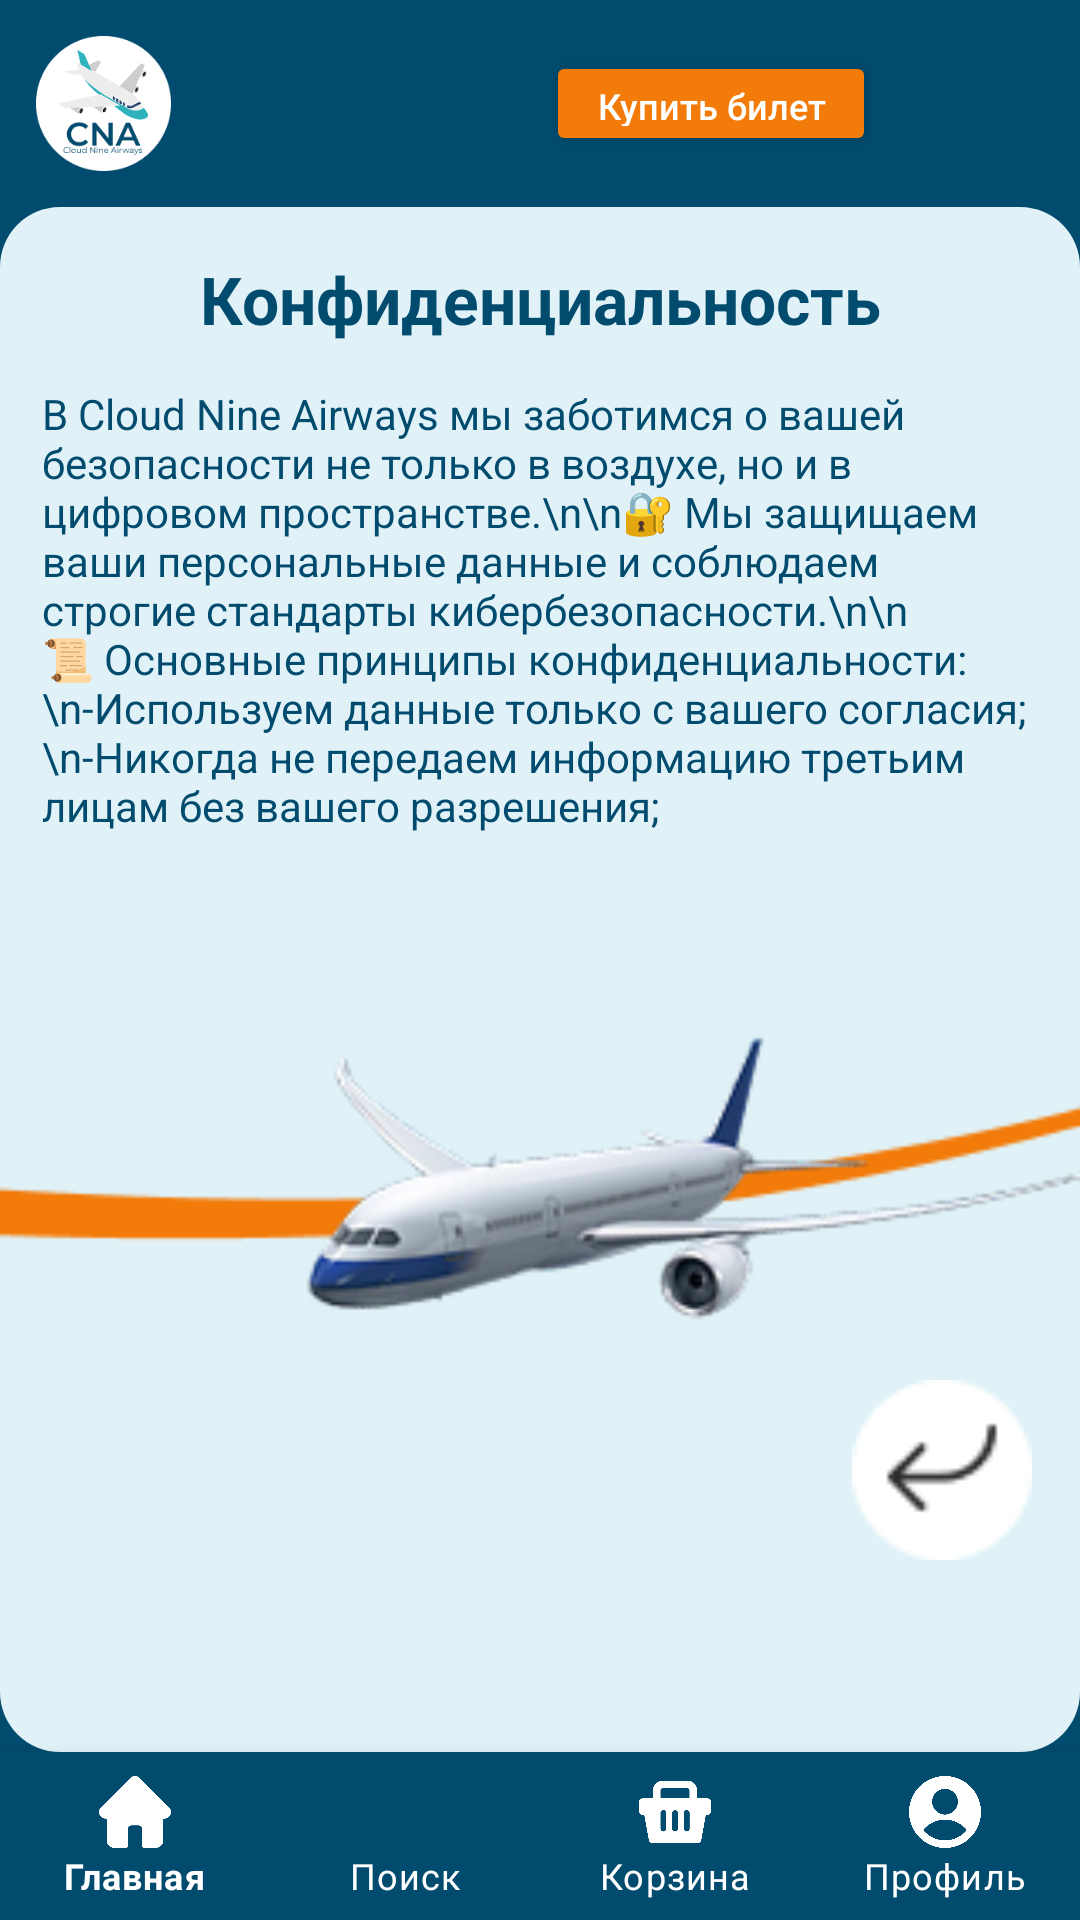

Where icons sit on this 1080w x 1920h app screen, as [x1, y1, x2, y2]:
backk: [852, 1380, 1032, 1560]
